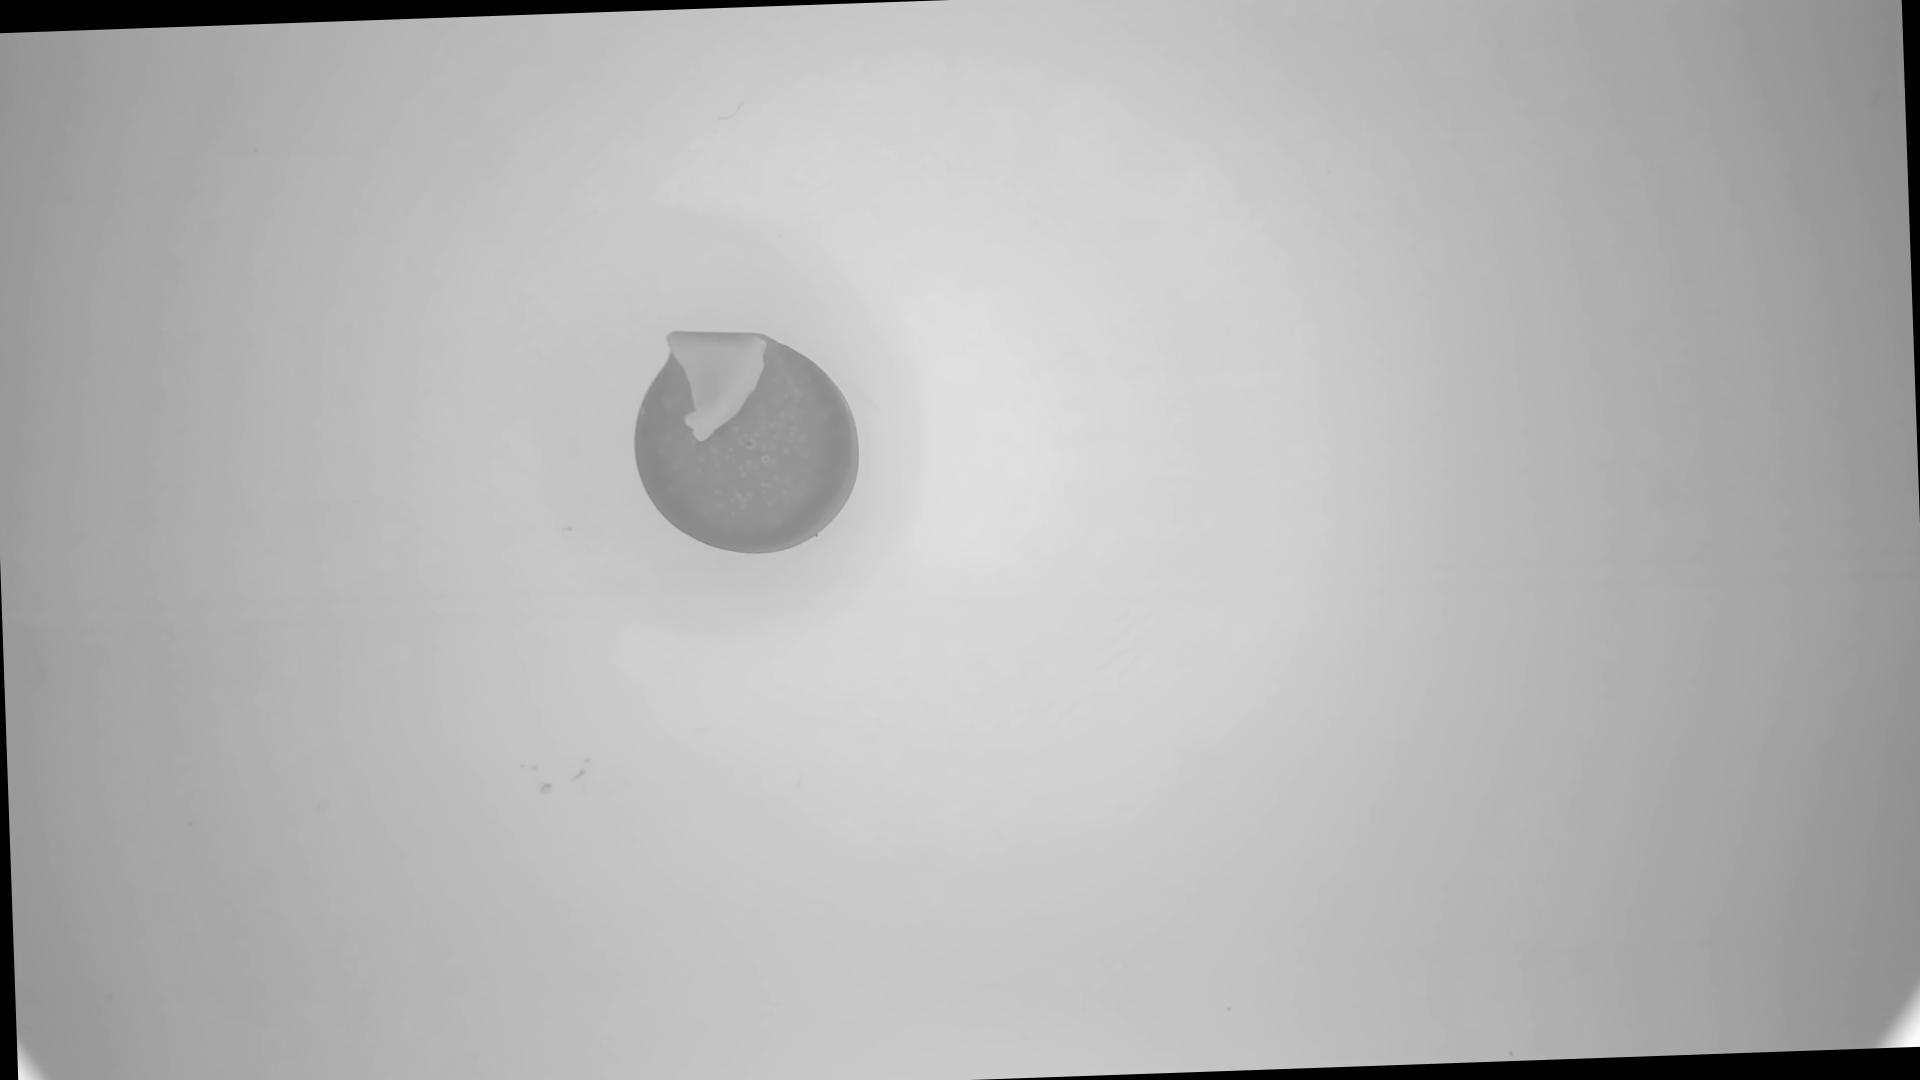abnormal: (630, 323, 868, 563)
